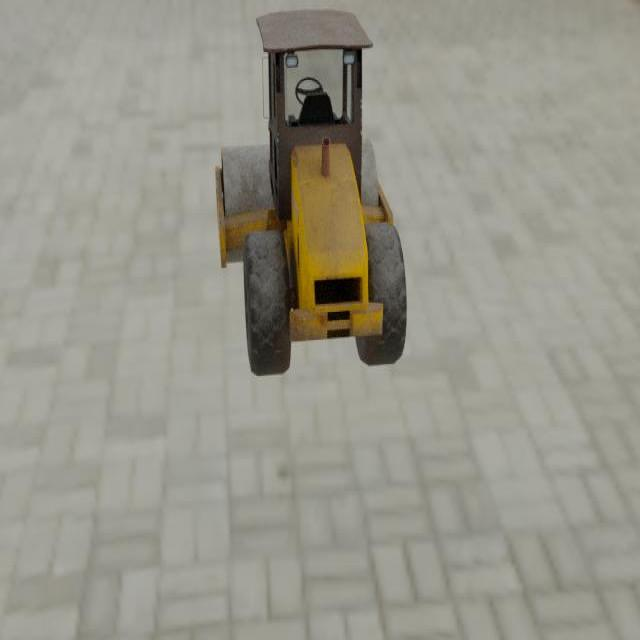Roller: (214, 8, 407, 376)
